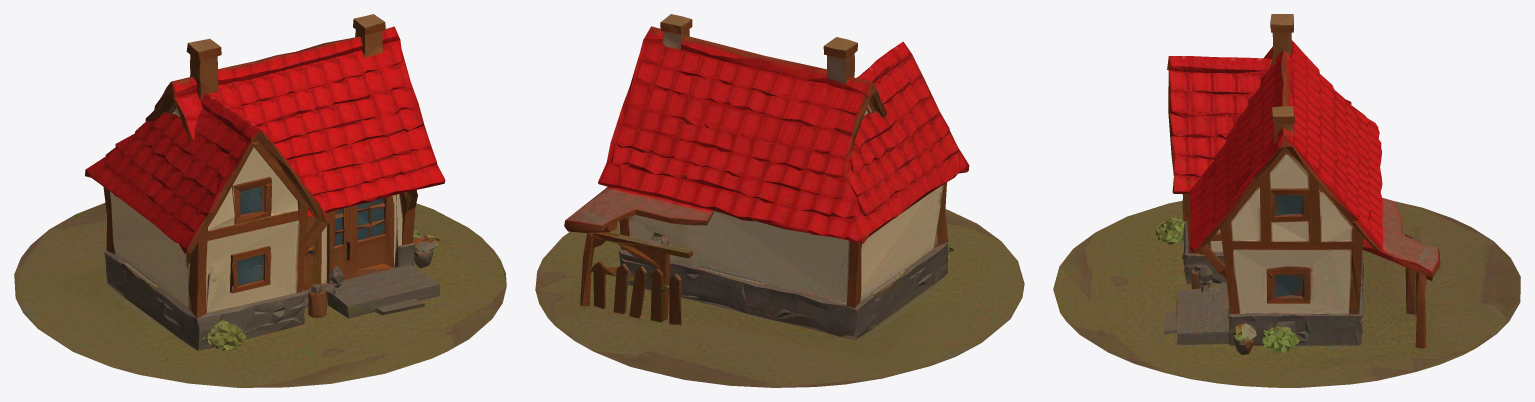
Rendered from cottage.glb.
3 renders of one model, left to right at view 1: azimuth 30°, elevation 25°; view 2: azimuth 150°, elevation 25°; view 3: azimuth 270°, elevation 25°, orthographic. The views are drawn at different scales.
Size of the model in its own units: 1.9 by 1.09 by 1.9.
Materials: 1 (1 with a texture image).
